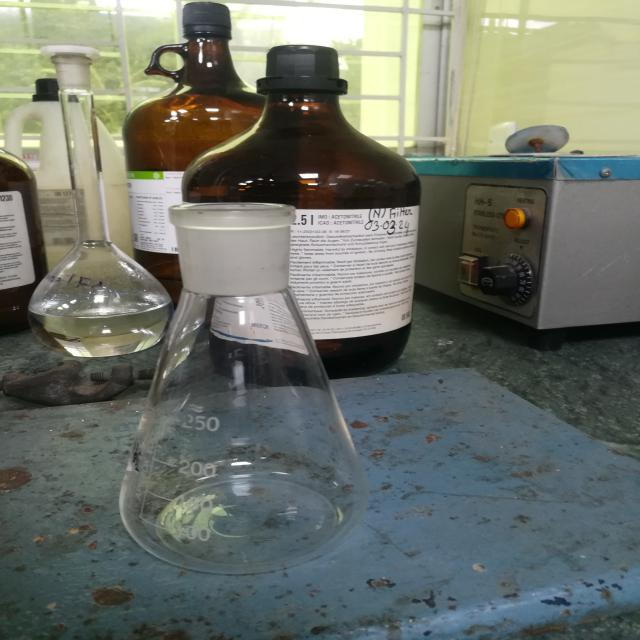Conical_Flask: (90, 174, 408, 608)
